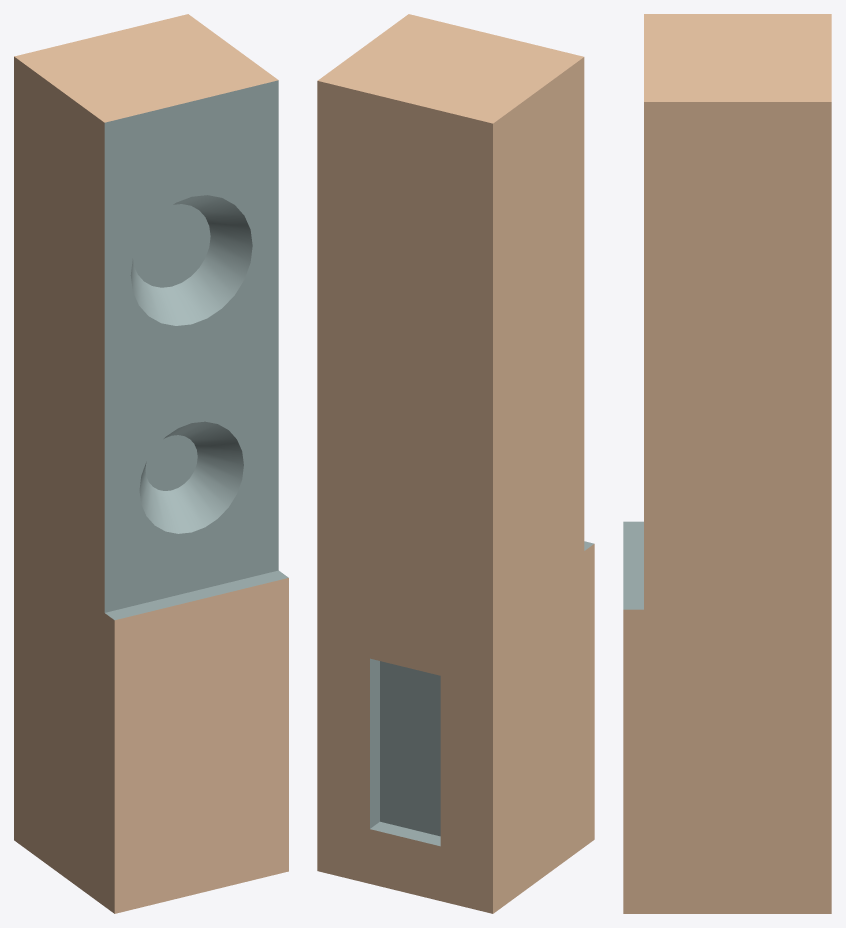
File: speaker.gltf
3 renders of one model, left to right at view 1: azimuth 30°, elevation 25°; view 2: azimuth 150°, elevation 25°; view 3: azimuth 270°, elevation 25°, orthographic. The views are drawn at different scales.
Parts seen in each view (by area): view 1: speaker(Clone); view 2: speaker(Clone); view 3: speaker(Clone).
Boxes of the visible parts, x1,y1,x2,y2 form: speaker(Clone): [14, 14, 288, 913]; speaker(Clone): [317, 14, 594, 913]; speaker(Clone): [623, 14, 831, 913].
Size of the model in its own units: 0.148 by 0.6364 by 0.148.
